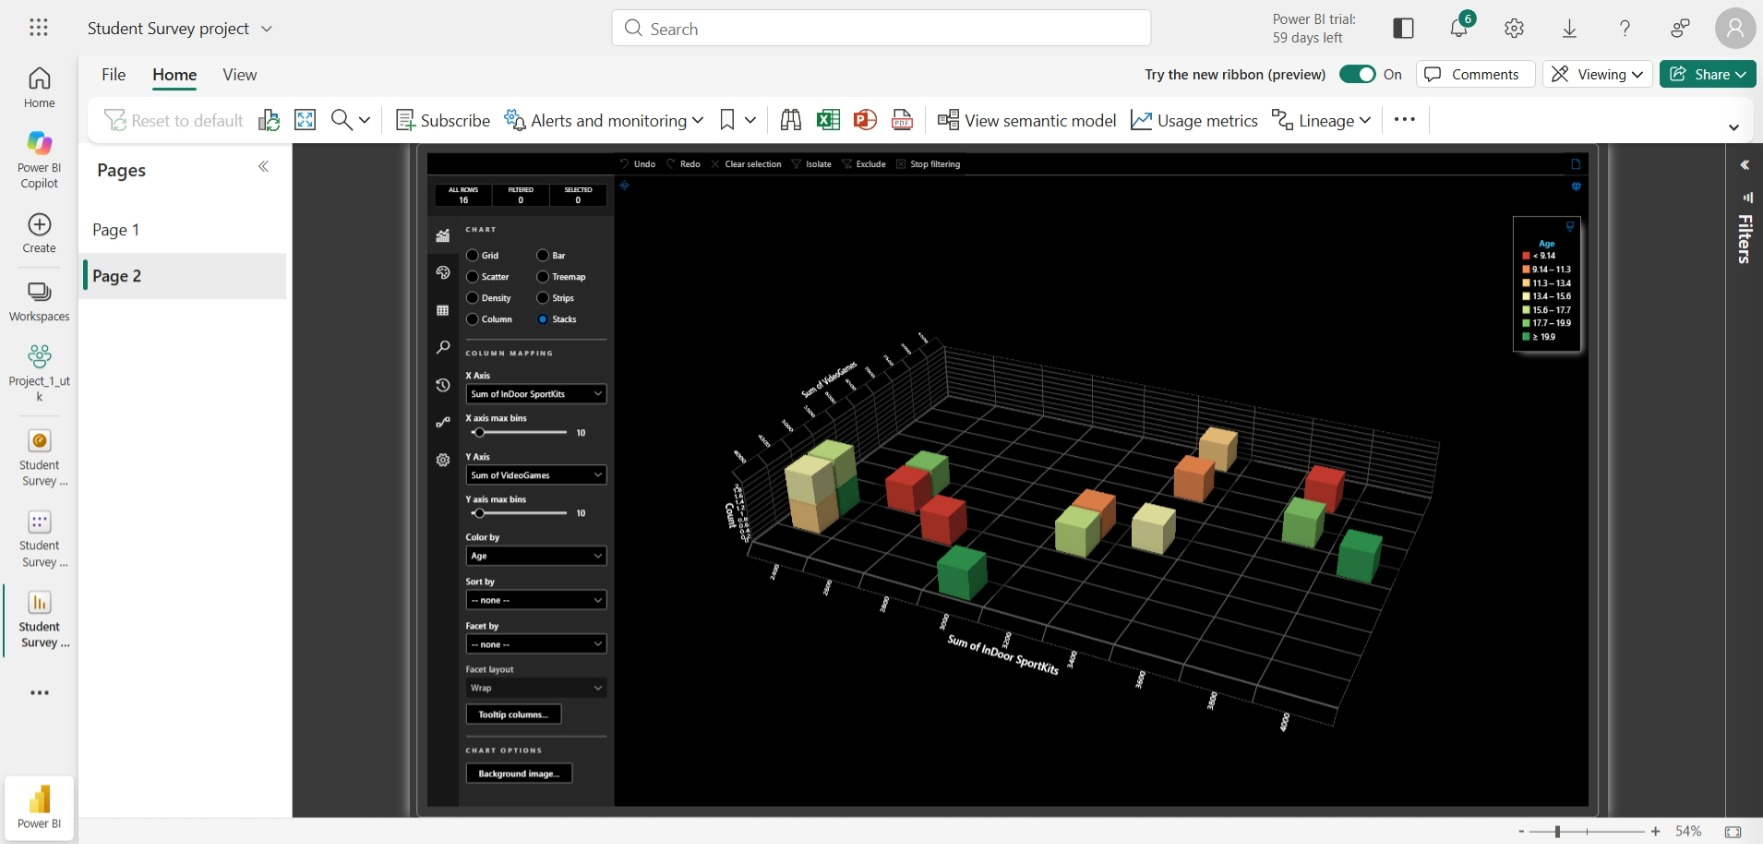

The page's visual inventory and layout, read from the dashboard file:
{"tool":"powerbi","page":{"name":"Page 2","canvas":[1920,1080],"ordinal":1},"visuals":[{"type":"SandDance201929976D117A654D0BAB8E96507442D80B","fields":{"values":["Sum(Student Survey.InDoor SportKits)","Sum(Student Survey.VideoGames)","Student Survey.Age"]},"box":[10.9,0,1894.7,1080.4],"z":0}]}

Visuals, with their boxes on the page's 1920x1080 design canvas (x1, y1, x2, y2). These are canvas units, not pixel positions in the 1763x844 screenshot, which may show the page scaled, cropped or inside an application window:
SandDance201929976D117A654D0BAB8E96507442D80B - Sum(Student Survey.InDoor SportKits) x Sum(Student Survey.VideoGames): bbox(11, 0, 1906, 1080)
